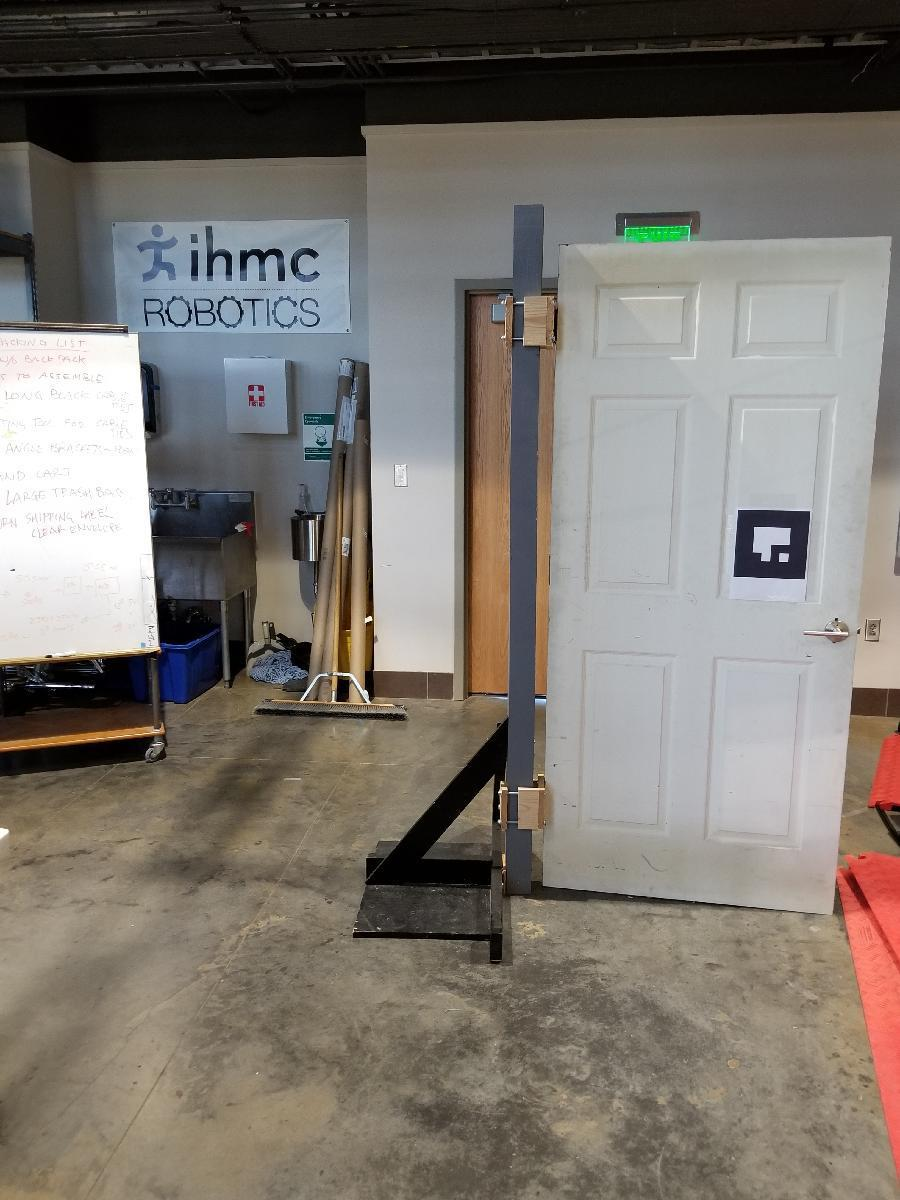door: (564, 246, 860, 900)
handle: (802, 610, 853, 651)
